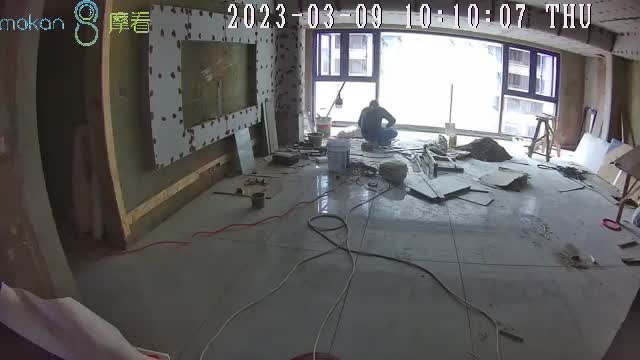people: (358, 101, 398, 145)
window: (313, 31, 558, 140)
